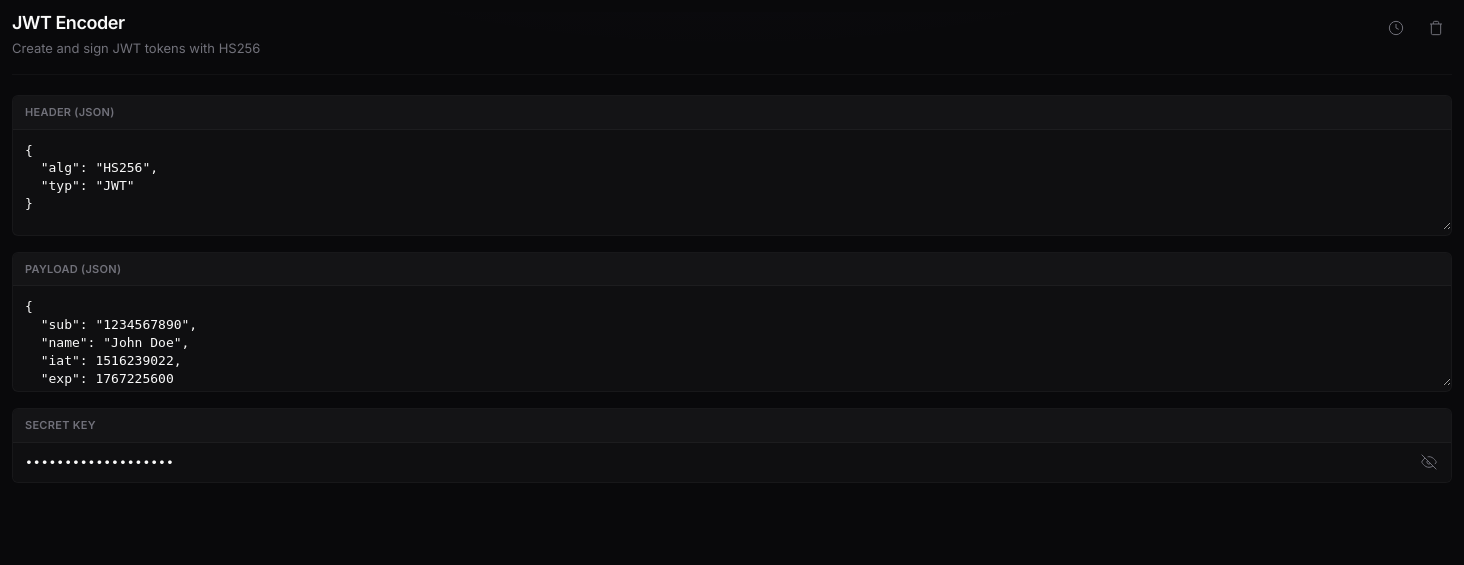
Test: JwtEncoderTool › should show error for empty secret
Clear the password field with class "secret-input": [732, 462] box [13, 442, 1451, 482]
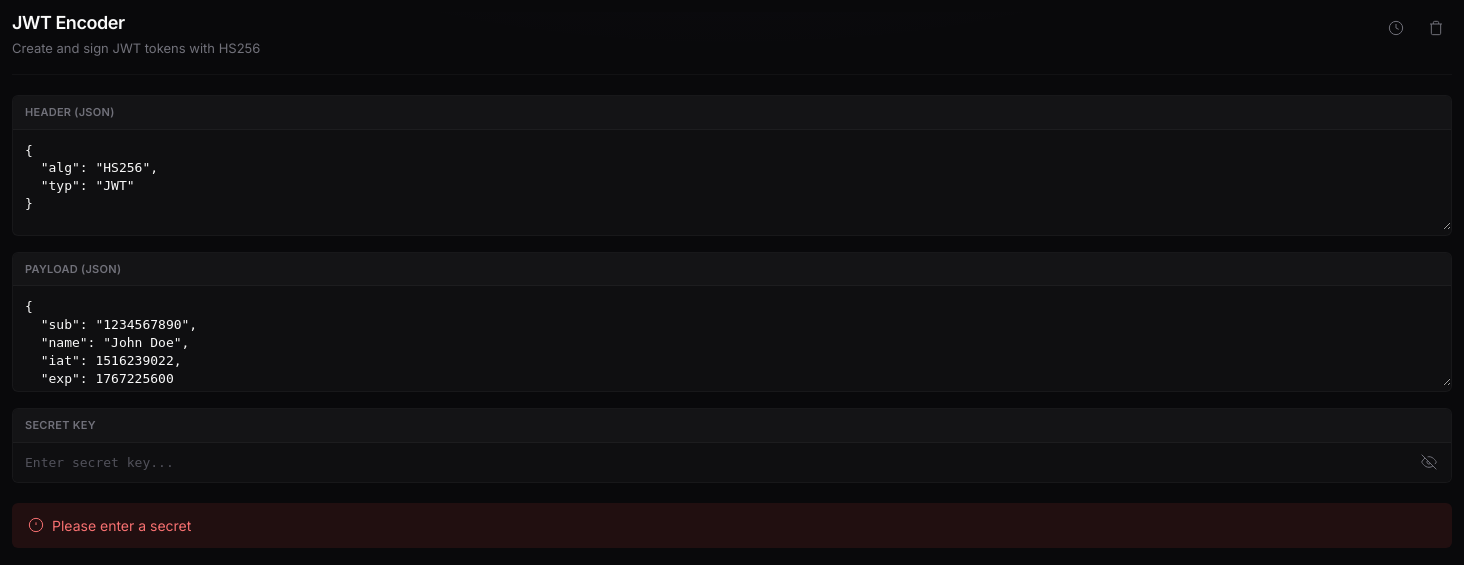
Expected: the text "Please enter a secret" is shown, [52, 514, 191, 536]
